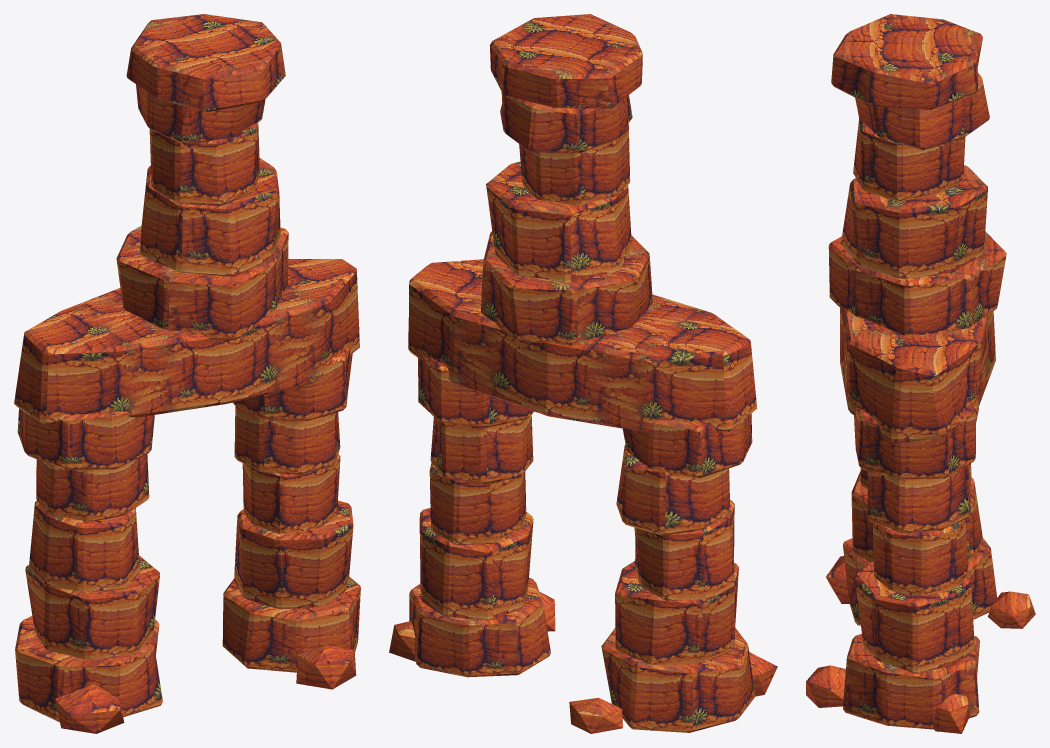
Rendered from ruins_arch.glb.
The picture shows the model from 3 angles, left to right: view 1: azimuth 30°, elevation 25°; view 2: azimuth 150°, elevation 25°; view 3: azimuth 270°, elevation 25°; orthographic projection.
Parts seen in each view (by area): view 1: Arch; view 2: Arch; view 3: Arch.
Boxes of the visible parts, x1,y1,x2,y2 form: Arch: (14,14,360,733); Arch: (389,14,777,733); Arch: (806,14,1035,733).
Bounding box in the file's own units: 9.39 × 16.71 × 5.64.
1 material, 1 textured.
